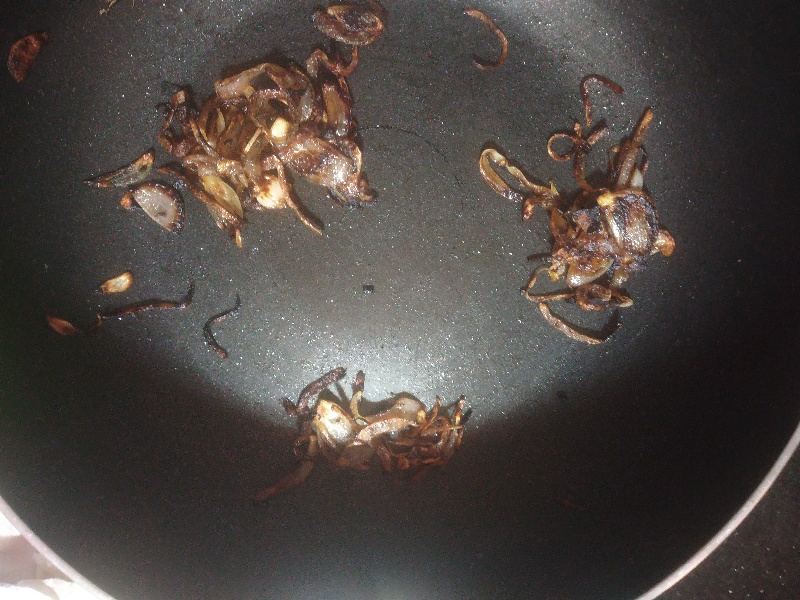onion_burnt: (105, 7, 392, 220), (504, 77, 664, 346)
